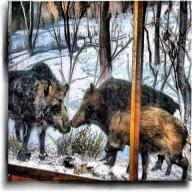boar: (70, 50, 189, 158), (11, 47, 74, 167), (100, 96, 192, 177)
